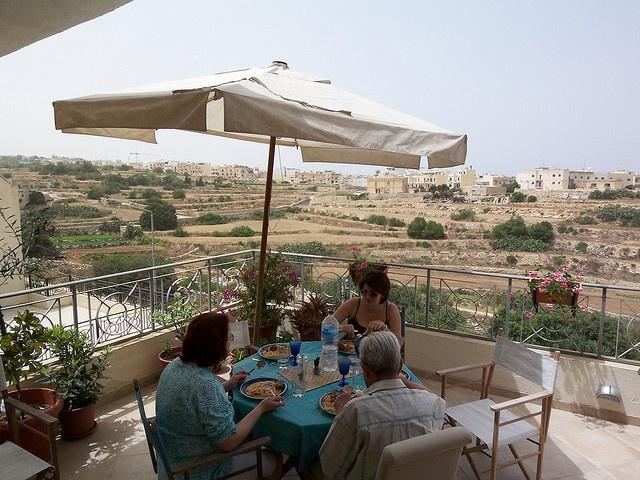Kursi: (435, 327, 561, 479)
